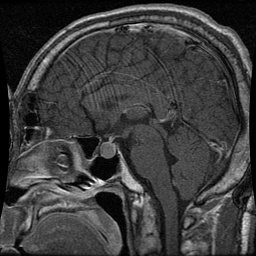pituitary: (99, 141, 116, 159)
